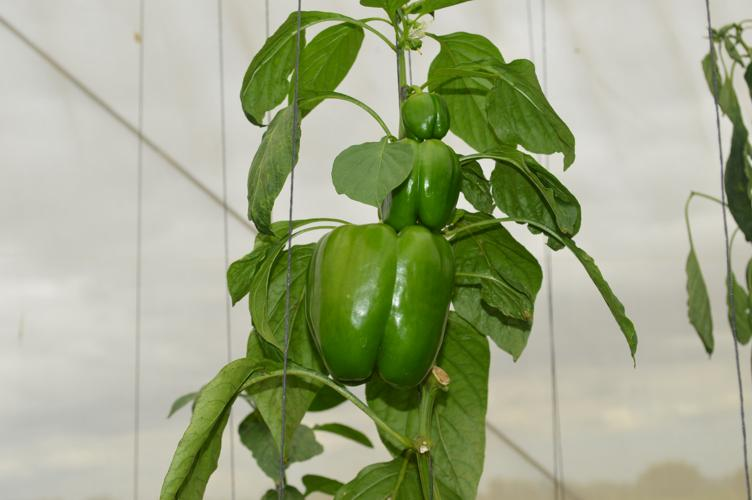BellPepper: (294, 213, 455, 393), (368, 135, 459, 232), (400, 84, 454, 137)
